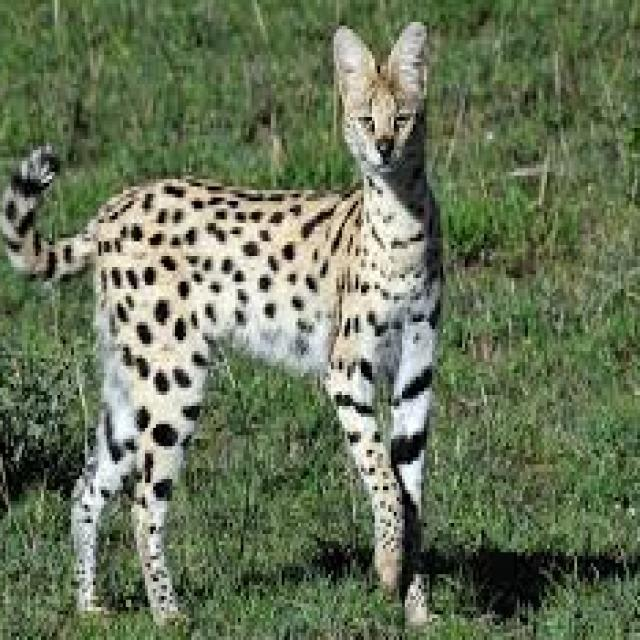Savannah: (0, 14, 446, 640)
